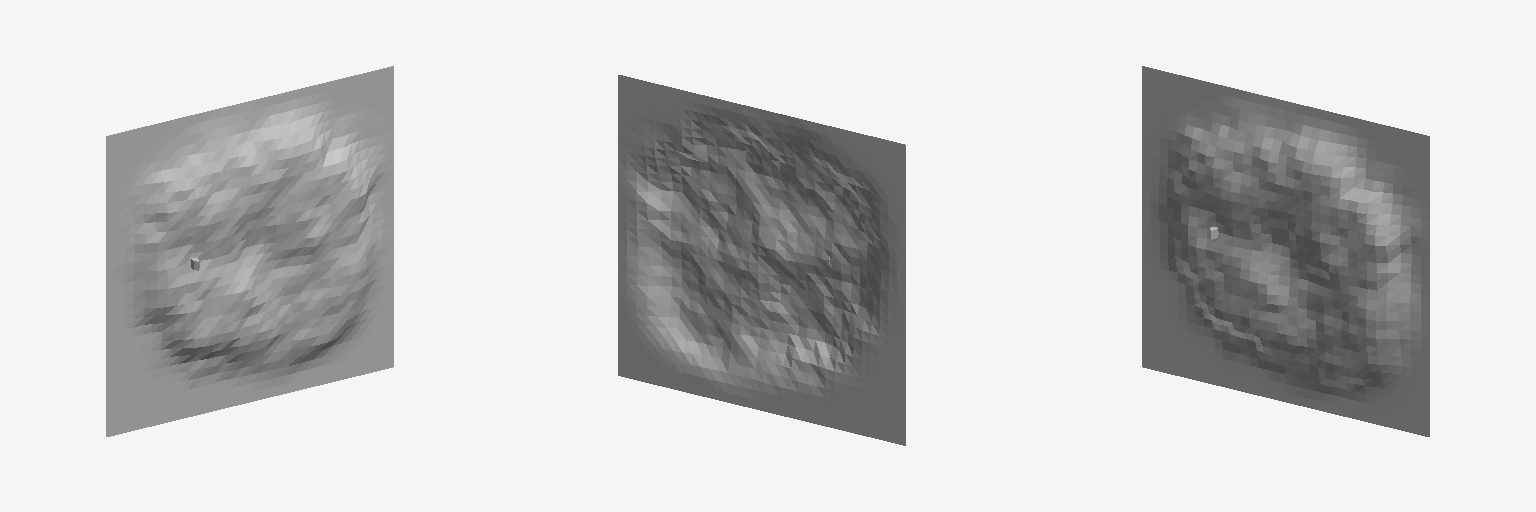
File: island.obj
The picture shows the model from 3 angles: view 1: azimuth 30°, elevation 25°; view 2: azimuth 150°, elevation 25°; view 3: azimuth 330°, elevation 25°; orthographic projection.
Visible parts, largest first — view 1: Plane; view 2: Plane; view 3: Plane.
Boxes of the visible parts, <box> form: Plane: <box>106,66,393,436</box>; Plane: <box>618,75,905,445</box>; Plane: <box>1142,66,1429,436</box>.
Size of the model in its own units: 200 by 200 by 14.14.